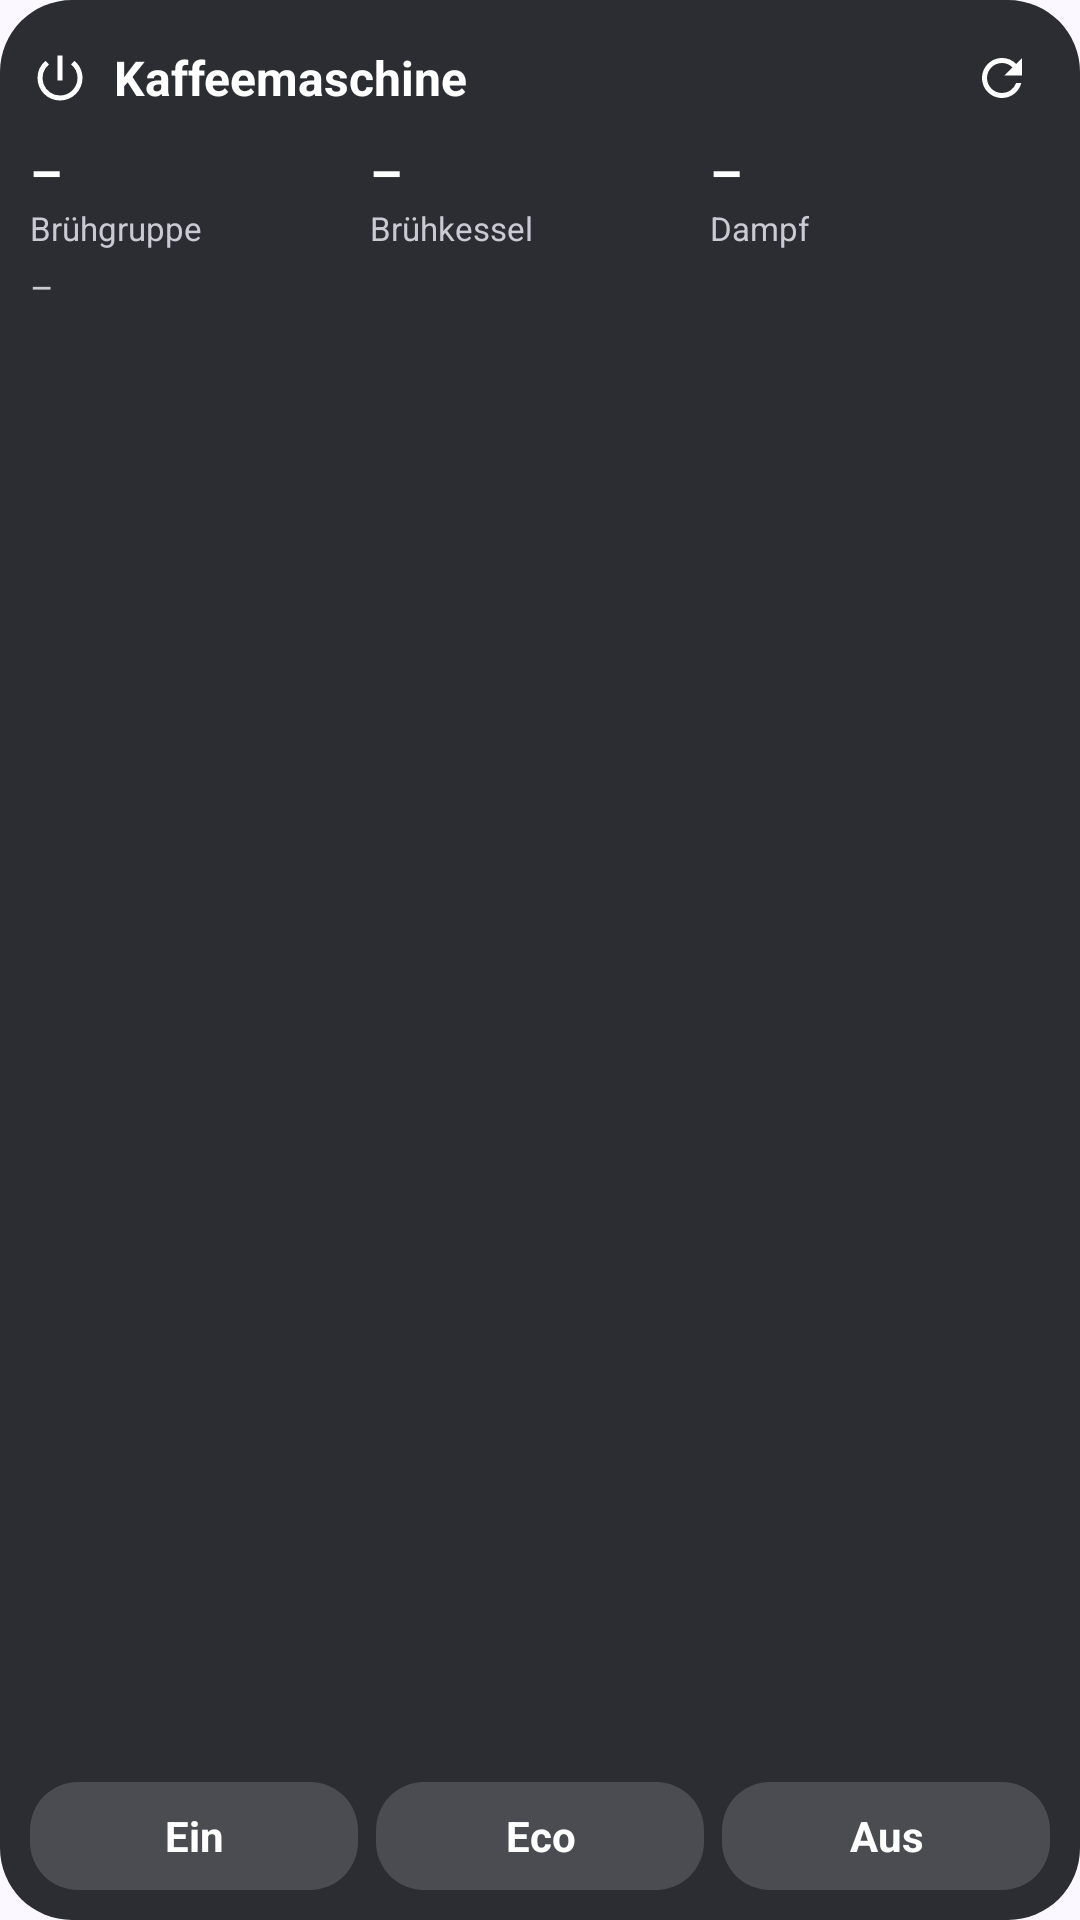

Point at icon controls on the screen. Image size 1080×1920, points as point (x, y).
Aktualisieren: point (1002, 78)
power: point (60, 78)
